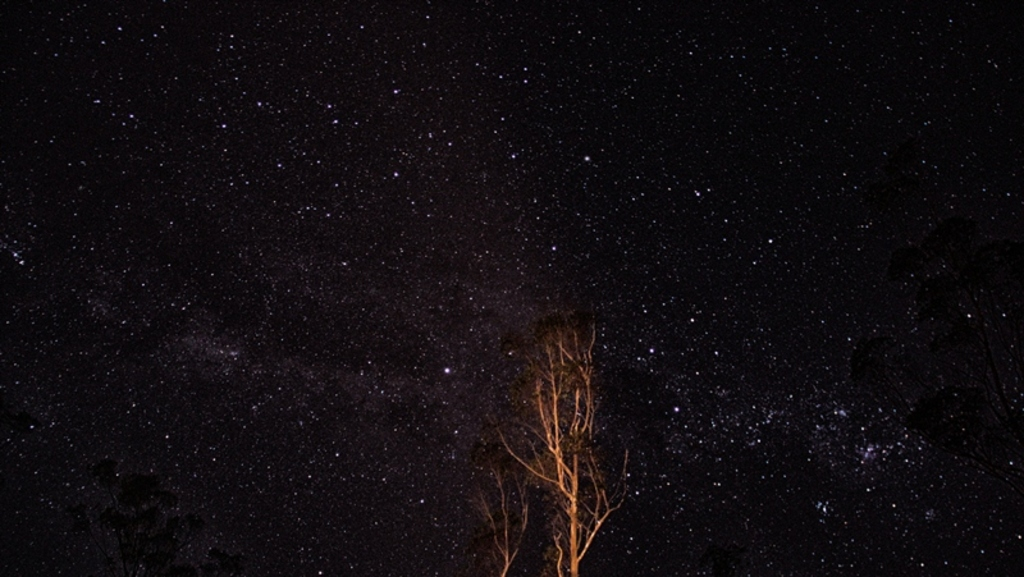Tree: (464, 301, 629, 577)
